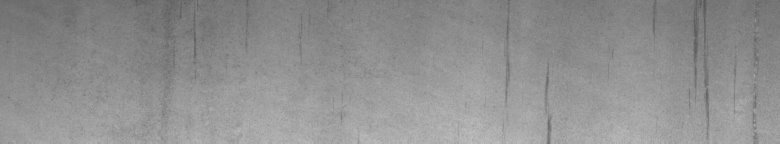ka: (505, 20, 555, 136)
